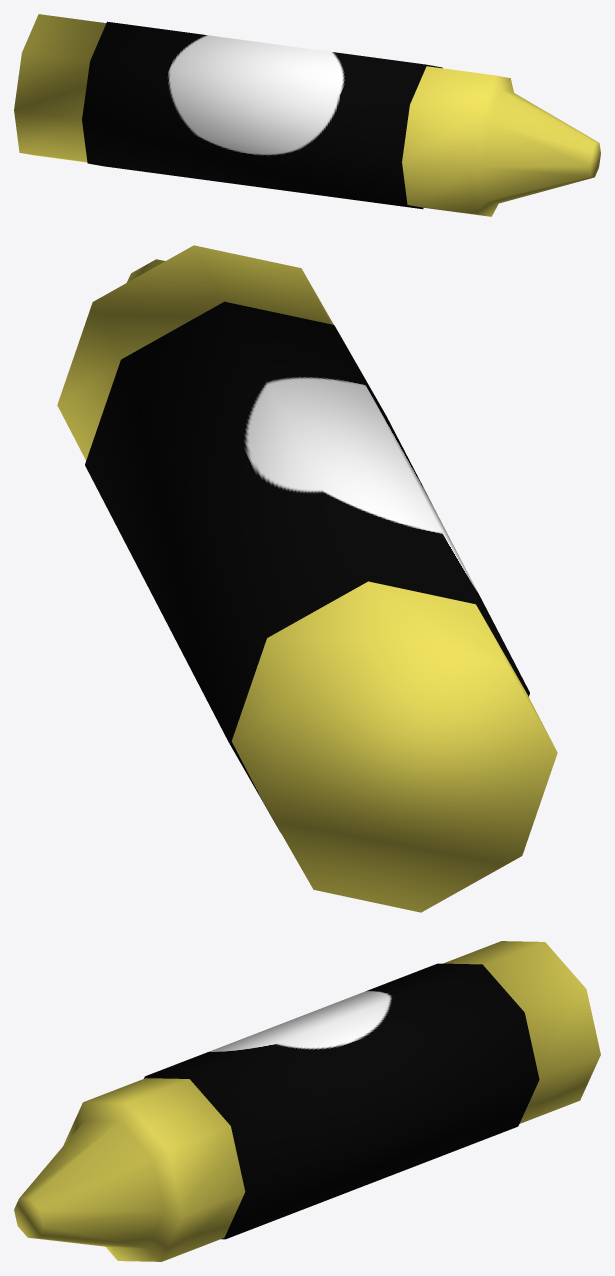
Rendered from YellowCrayonOBJ.fbx.
3 views of the same model, one above another, from view 1: azimuth 30°, elevation 25°; view 2: azimuth 150°, elevation 25°; view 3: azimuth 270°, elevation 25° (orthographic). The views are drawn at different scales.
Visible parts, largest first — view 1: FamilyDrawing.002; view 2: FamilyDrawing.002; view 3: FamilyDrawing.002.
Part boxes in pixels (x1,y1,x2,y2): FamilyDrawing.002: (14,14,600,216); FamilyDrawing.002: (57,245,557,912); FamilyDrawing.002: (14,941,600,1261).
Size of the model in its own units: 23.17 by 7.7 by 24.77.
